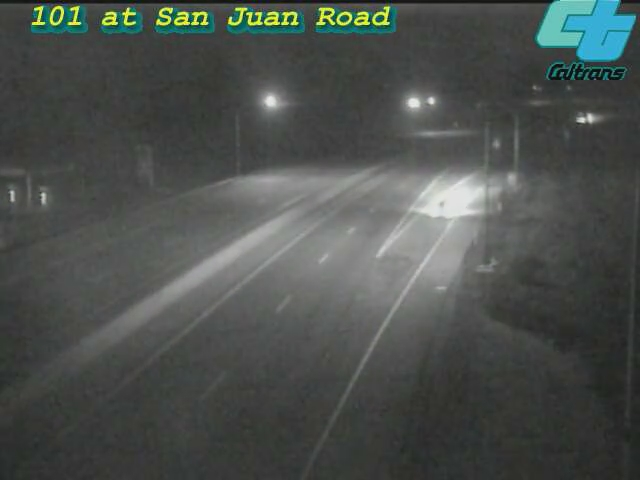vehicle: (409, 163, 489, 243), (562, 93, 612, 143)
